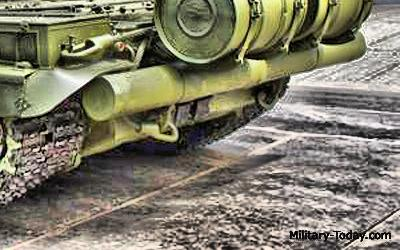tanks: (1, 1, 374, 208)
